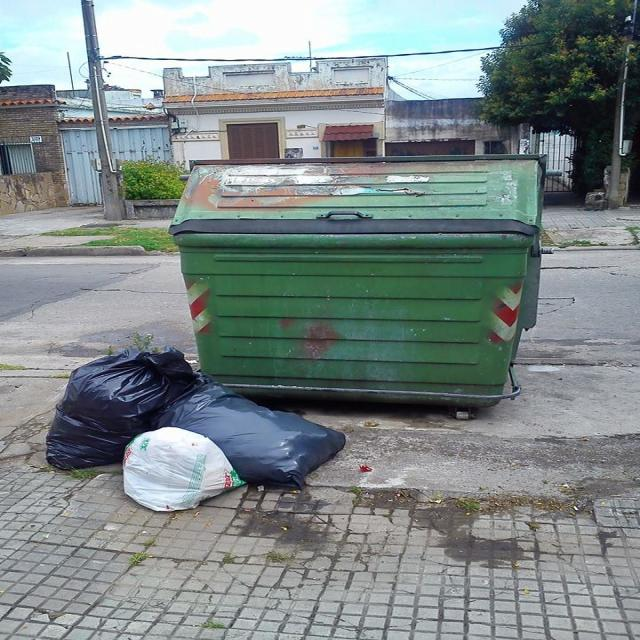garbage: (40, 337, 357, 516)
